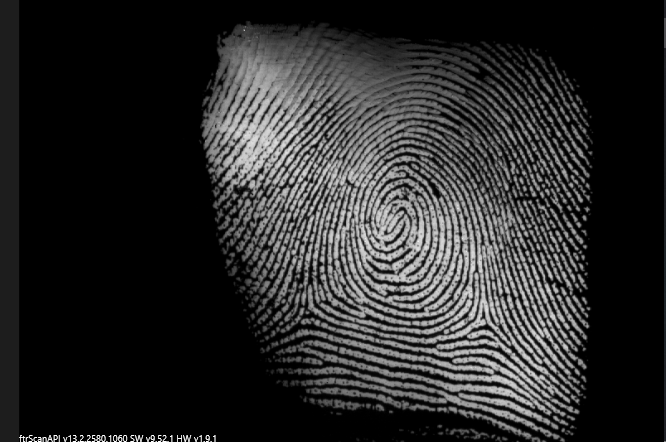nucelo: (380, 200, 417, 247)
verticilo: (464, 307, 502, 340), (293, 303, 320, 329)
